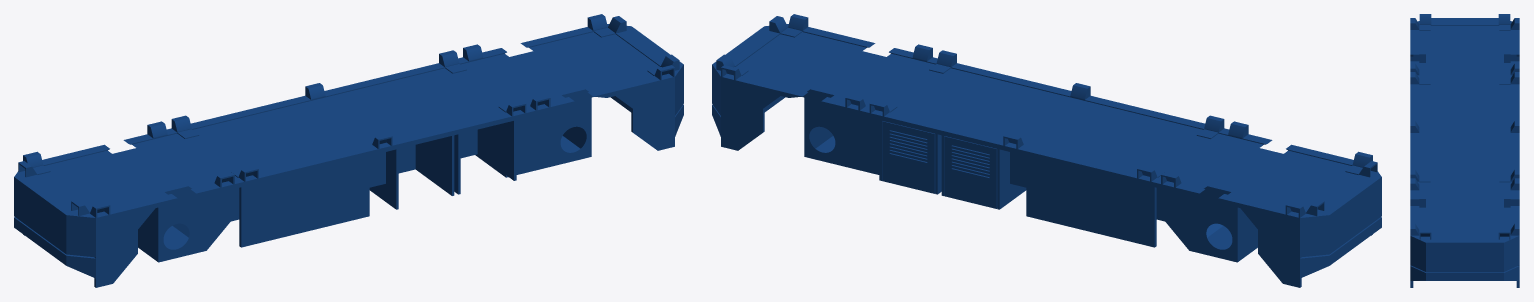
File: AGV_Body.FBX
The picture shows the model from 3 angles, left to right: view 1: azimuth 30°, elevation 25°; view 2: azimuth 150°, elevation 25°; view 3: azimuth 270°, elevation 25°; orthographic projection. The views are drawn at different scales.
Parts seen in each view (by area): view 1: agv; view 2: agv; view 3: agv.
Boxes of the visible parts, left/top/right/bottom form: agv: left=14, top=14, right=683, bottom=287; agv: left=712, top=14, right=1381, bottom=287; agv: left=1410, top=14, right=1519, bottom=287.
Bounding box in the file's own units: 1454 × 178 × 298.
